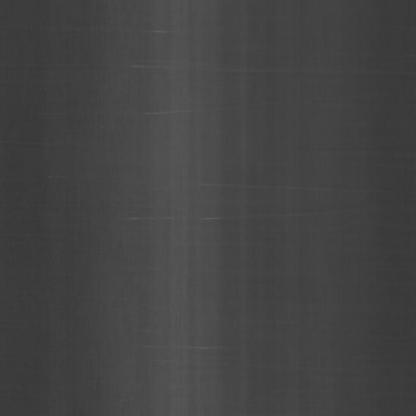waist_folding: (123, 46, 239, 340)
